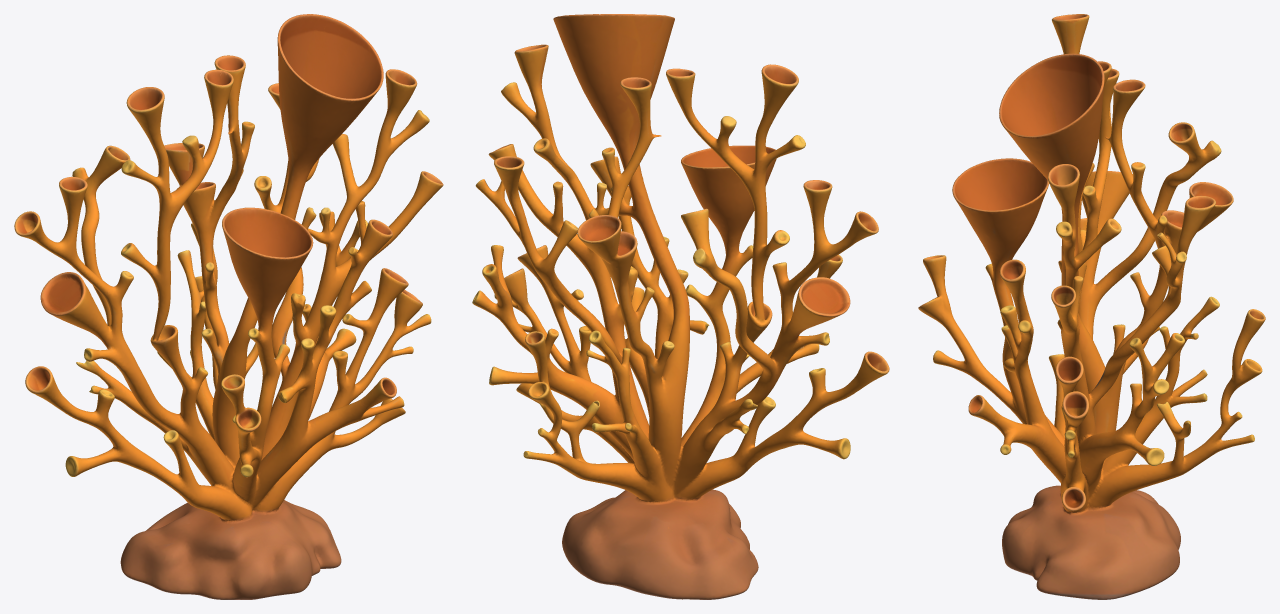
Rendered from recife_coral_leque.glb.
3 views of the same model, side by side, from view 1: azimuth 30°, elevation 25°; view 2: azimuth 150°, elevation 25°; view 3: azimuth 270°, elevation 25° (orthographic). The views are drawn at different scales.
Size of the model in its own units: 1.51 by 1.9 by 1.14.
Materials: 1 (1 with a texture image).
